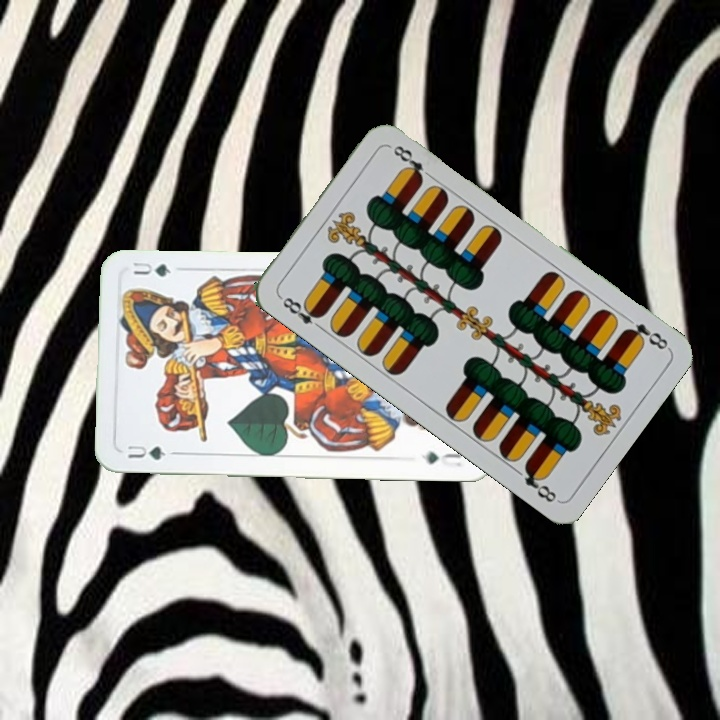E8: (275, 291, 327, 333), (620, 319, 671, 353)
GU: (123, 441, 168, 463)
